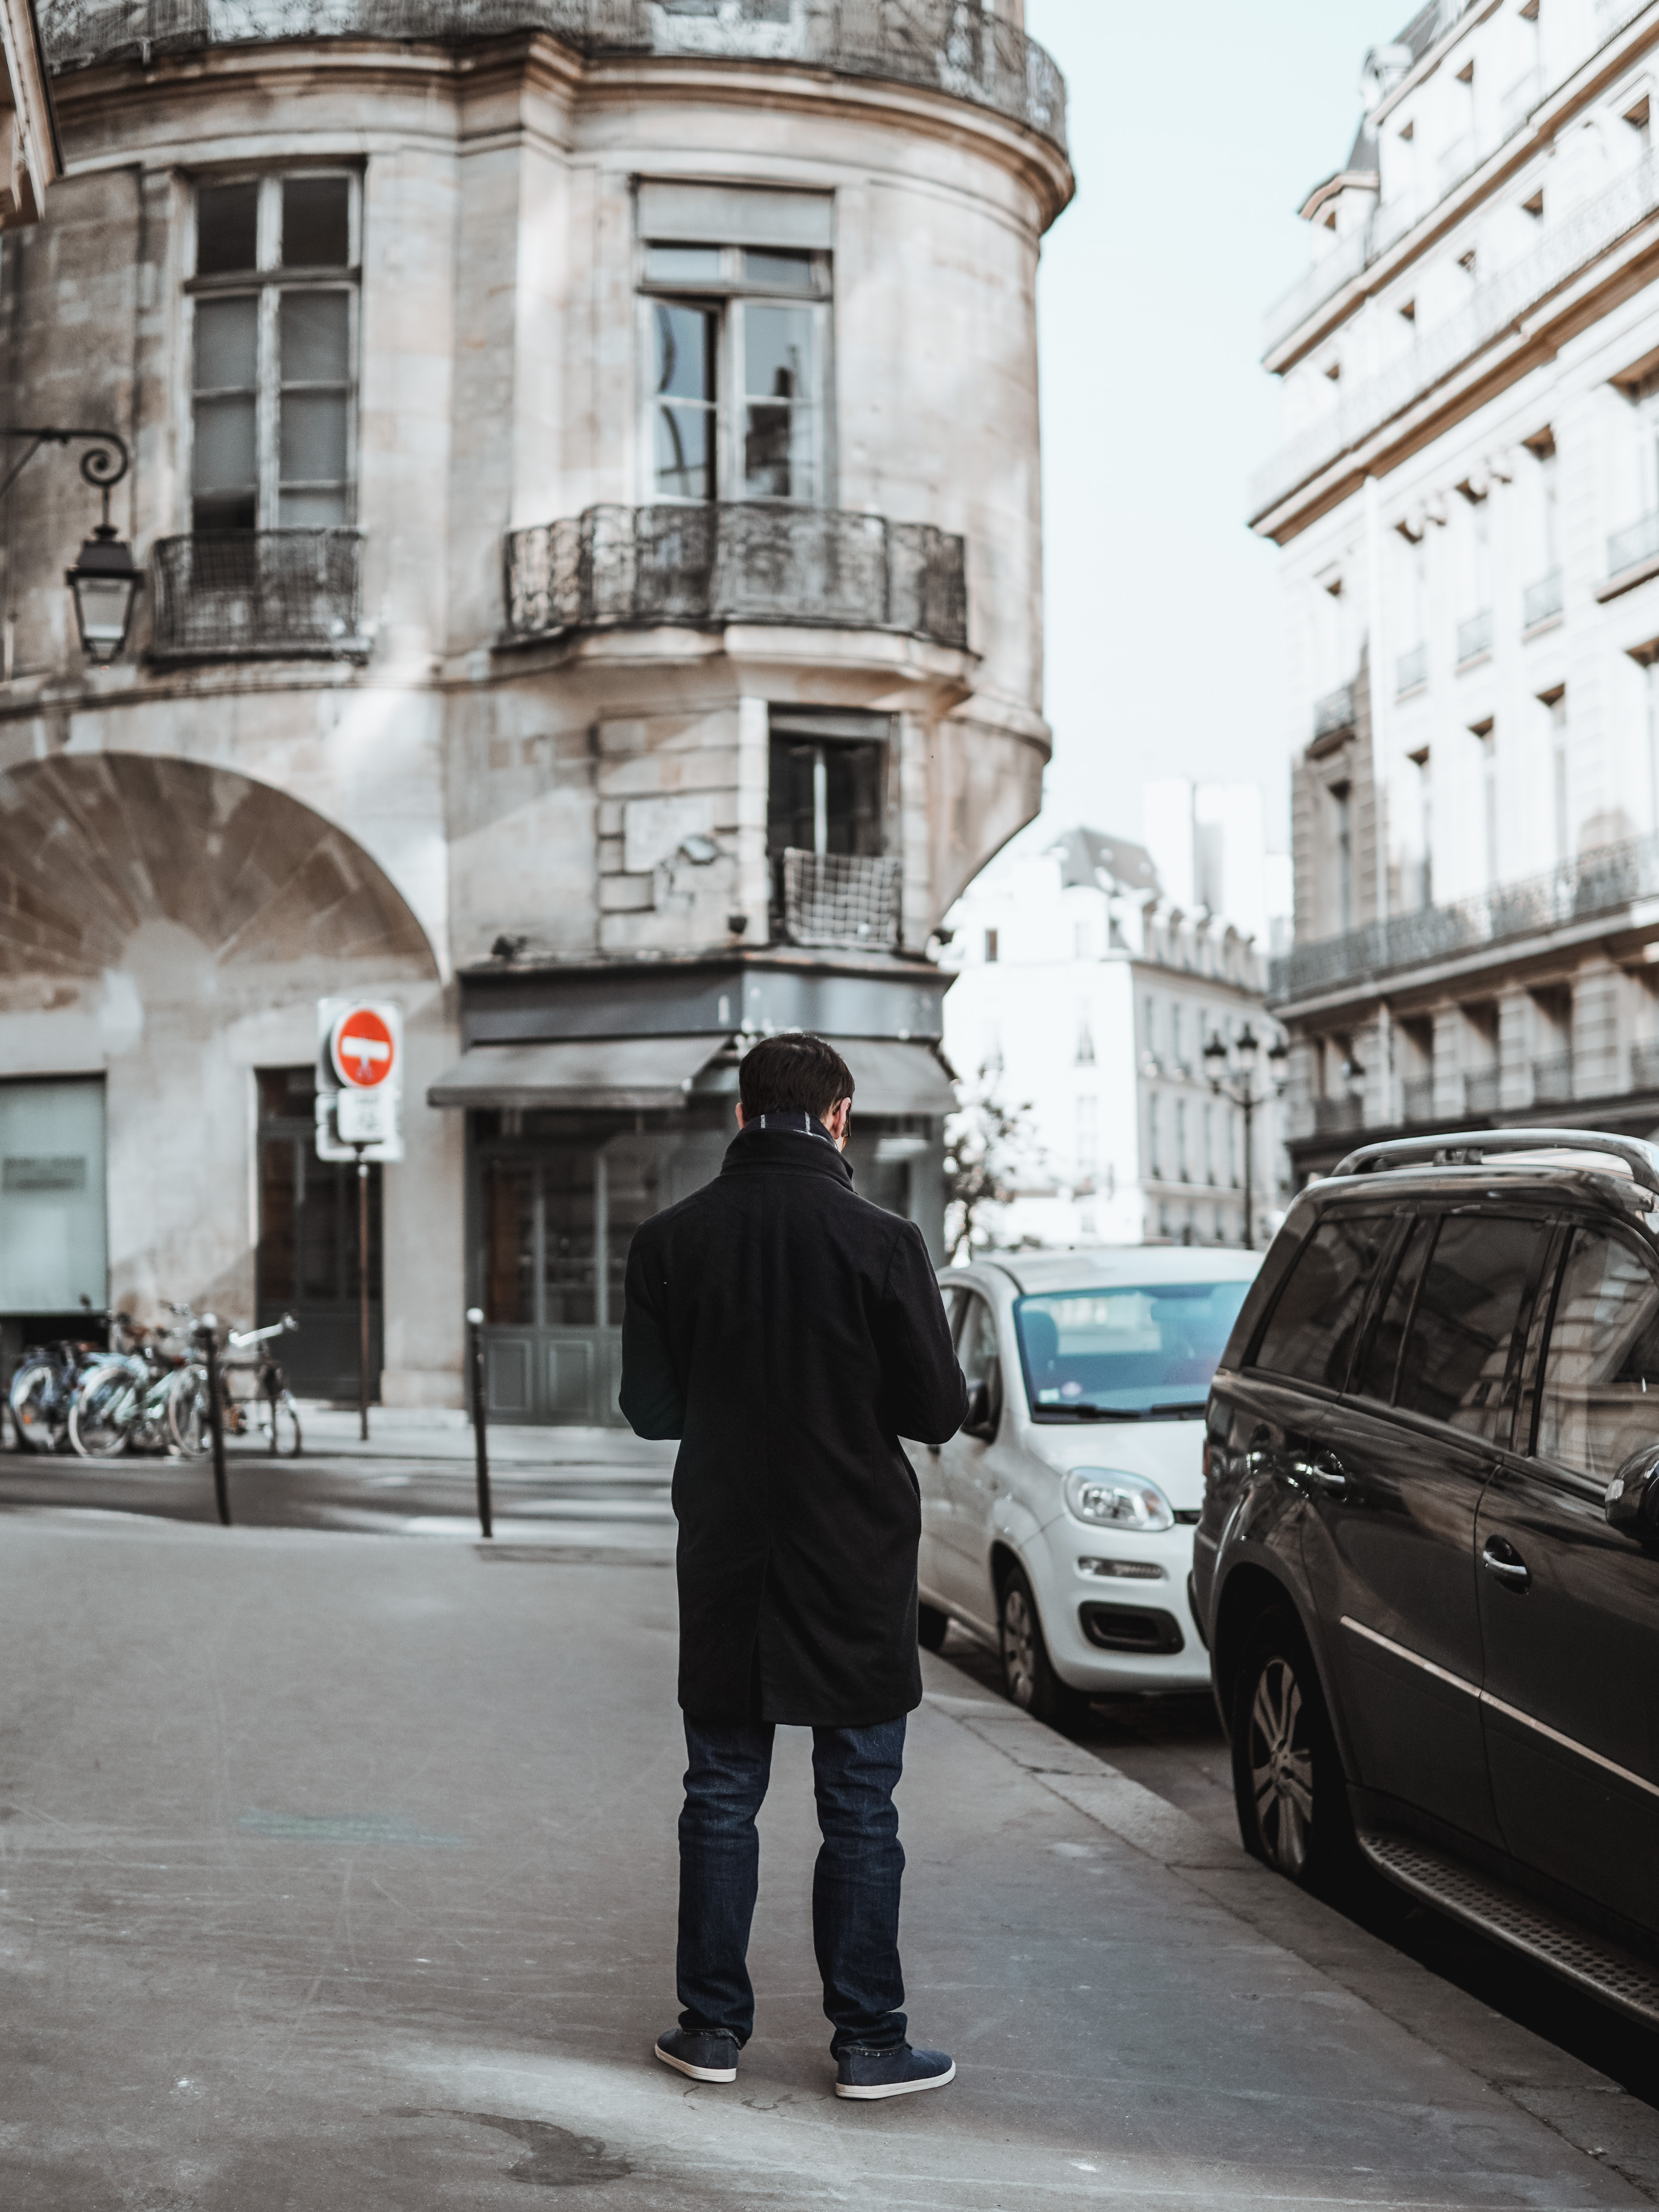person: (622, 1034, 970, 2098)
